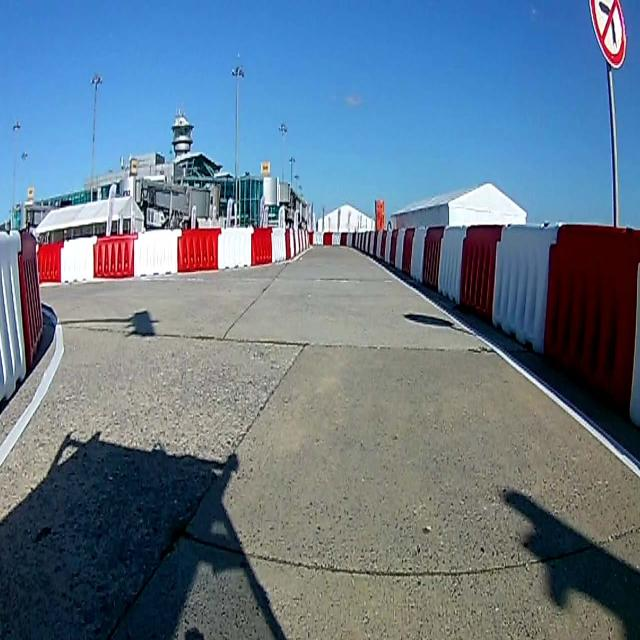soladonulmez: (590, 1, 626, 71)
